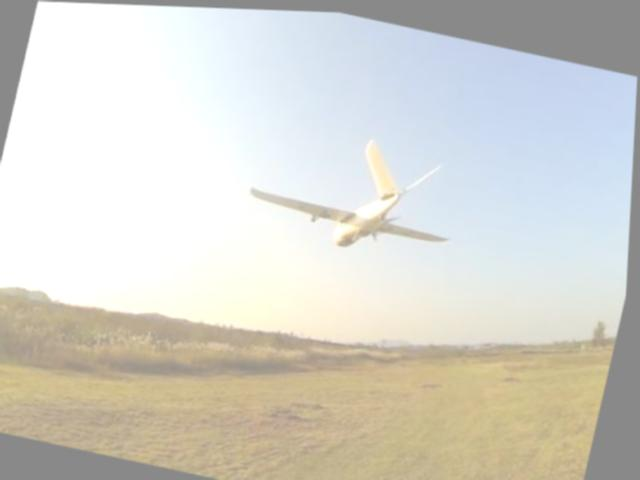uav: (234, 106, 474, 281)
